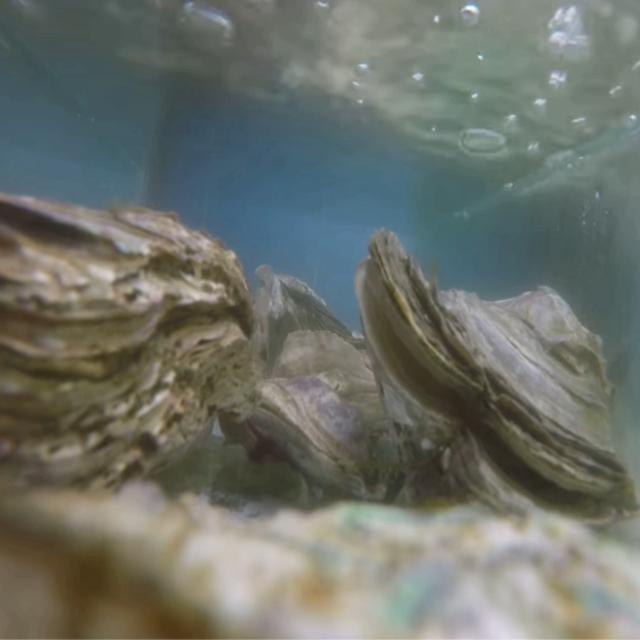Oyster-Closed: (0, 192, 256, 535), (251, 332, 414, 507)
Oyster-Indeterminate: (0, 482, 640, 640)
Oyster-Open: (355, 230, 640, 540)
